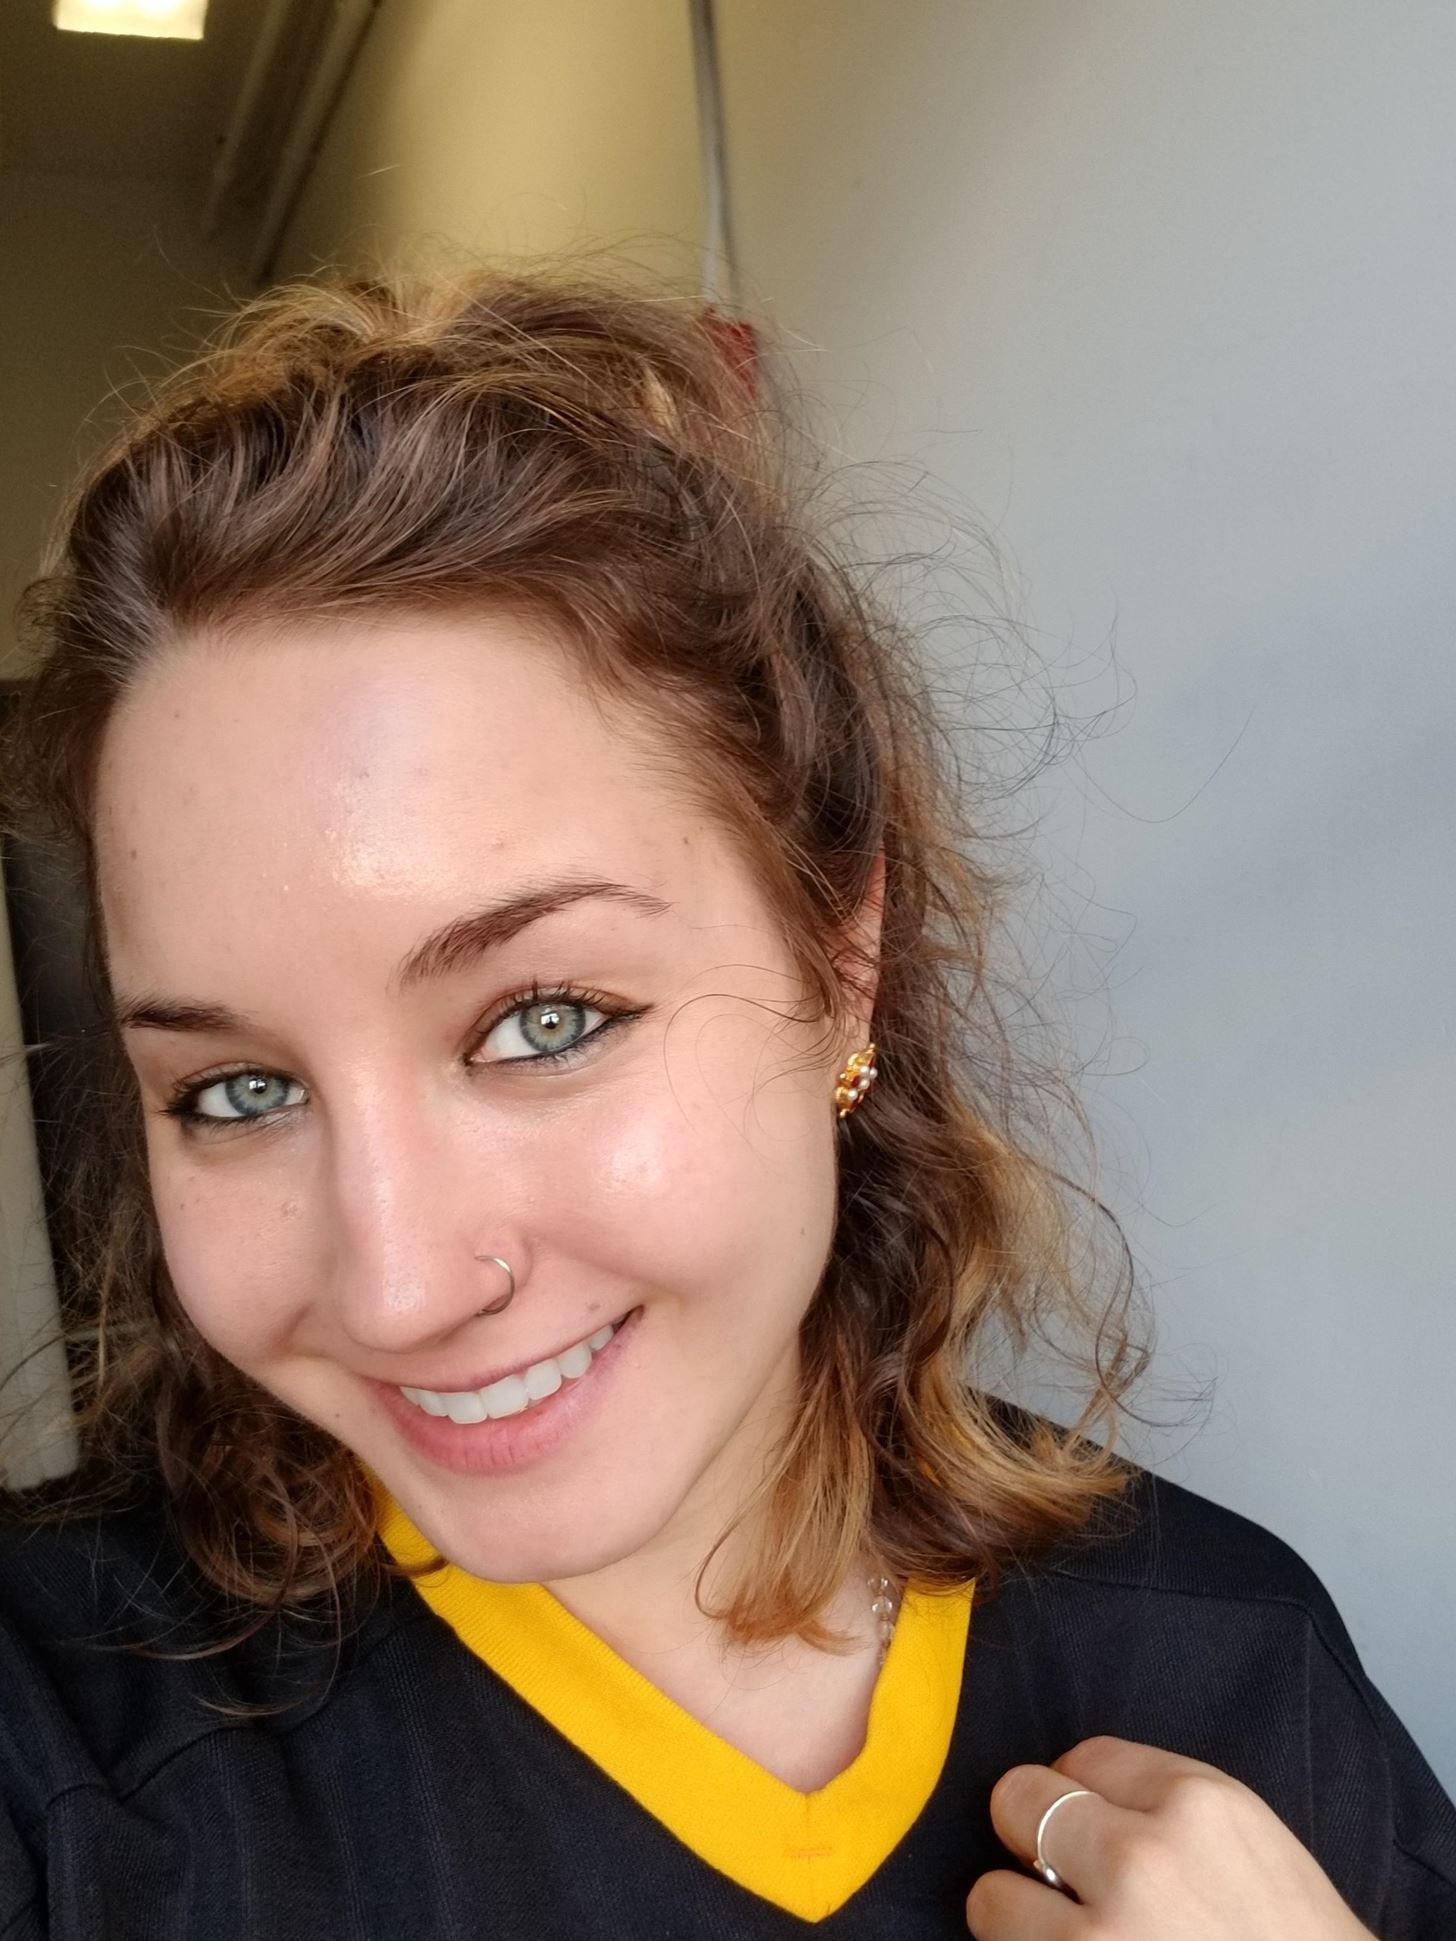face: (87, 608, 835, 1584)
